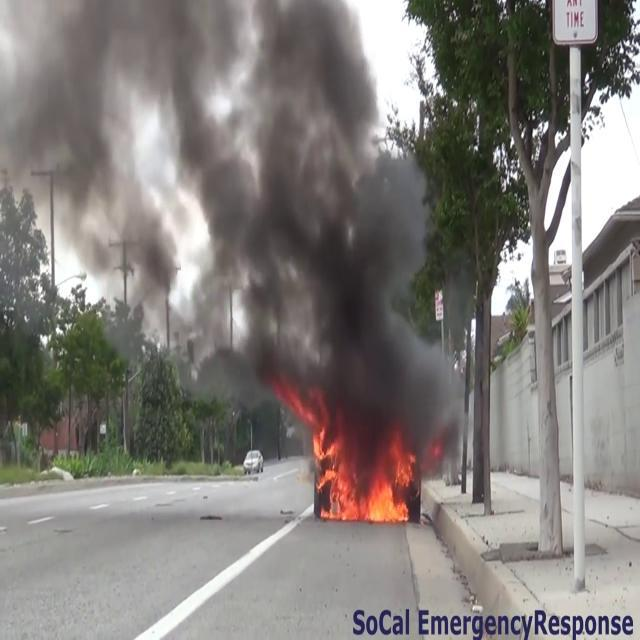Fire: (310, 429, 418, 526)
Smoke: (1, 0, 449, 429)
